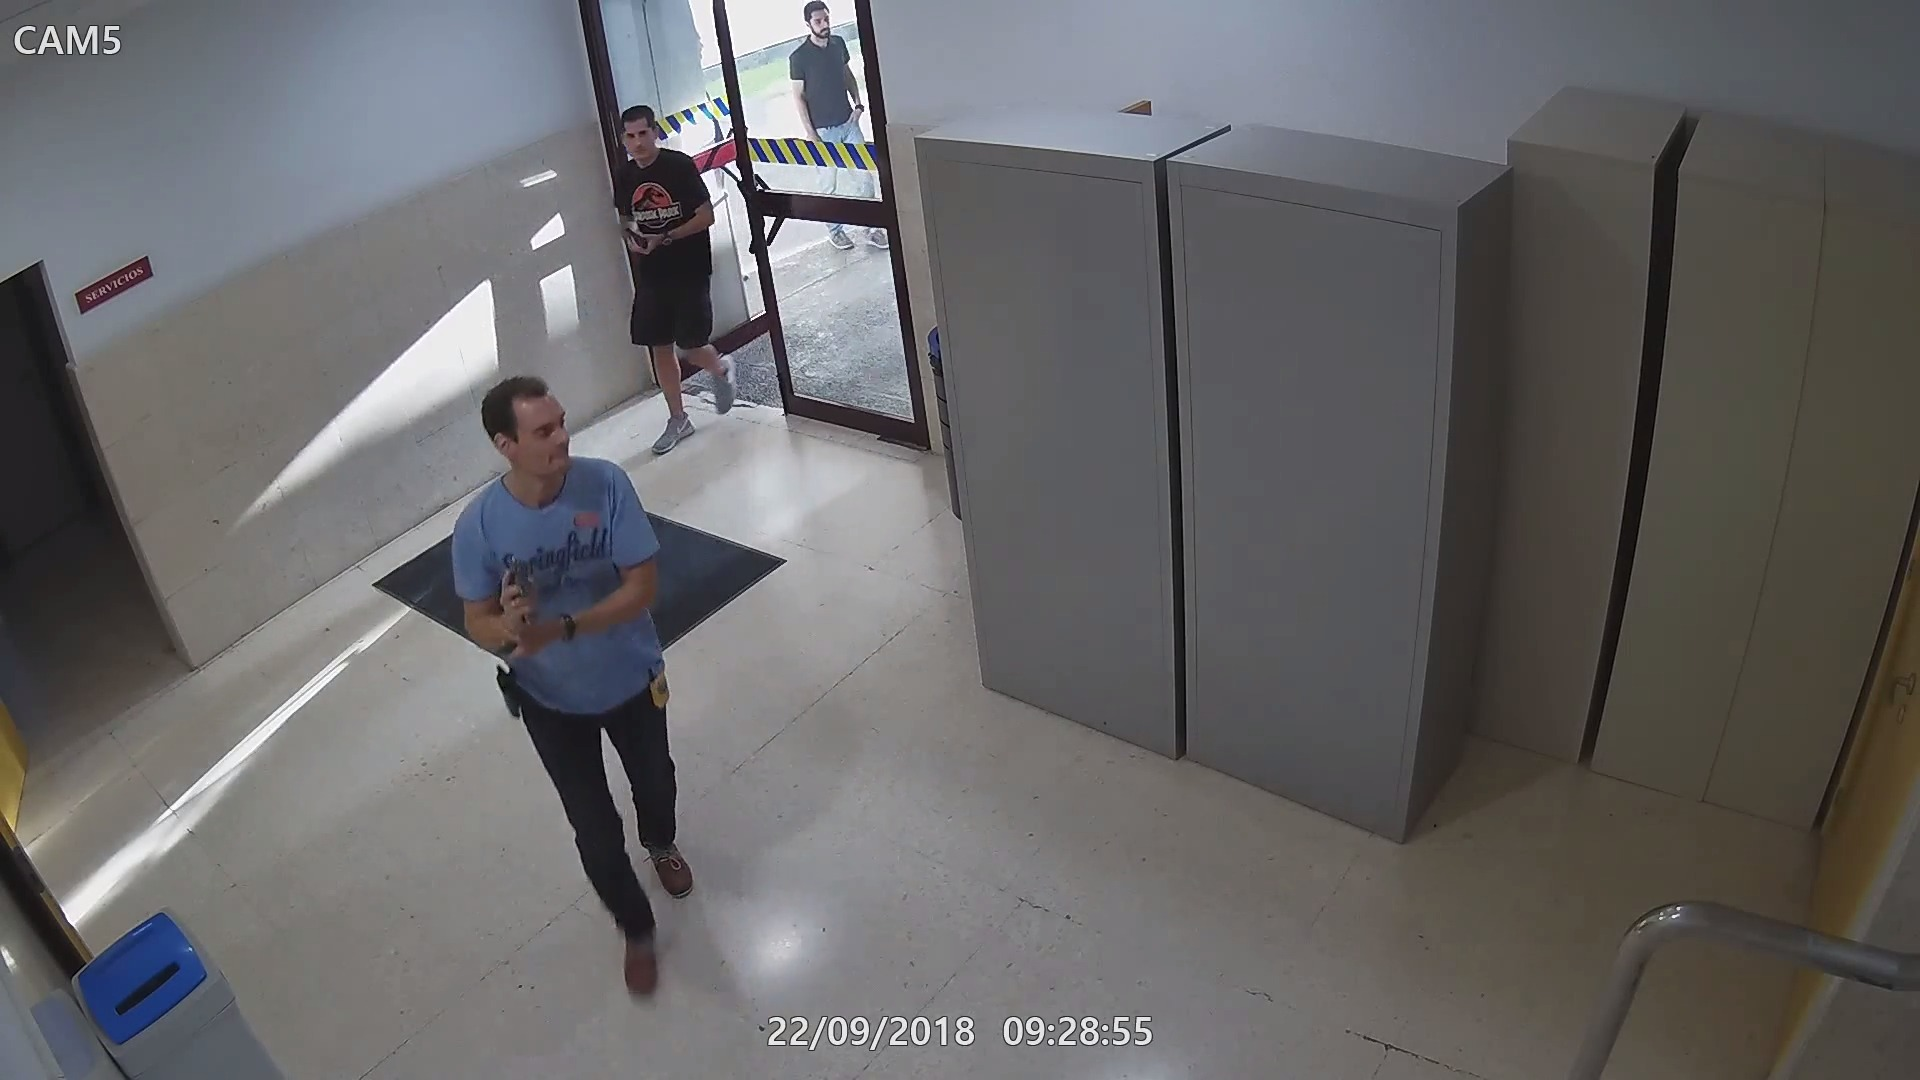knife: (462, 622, 559, 670)
pistol: (501, 553, 542, 642), (617, 222, 650, 253)
